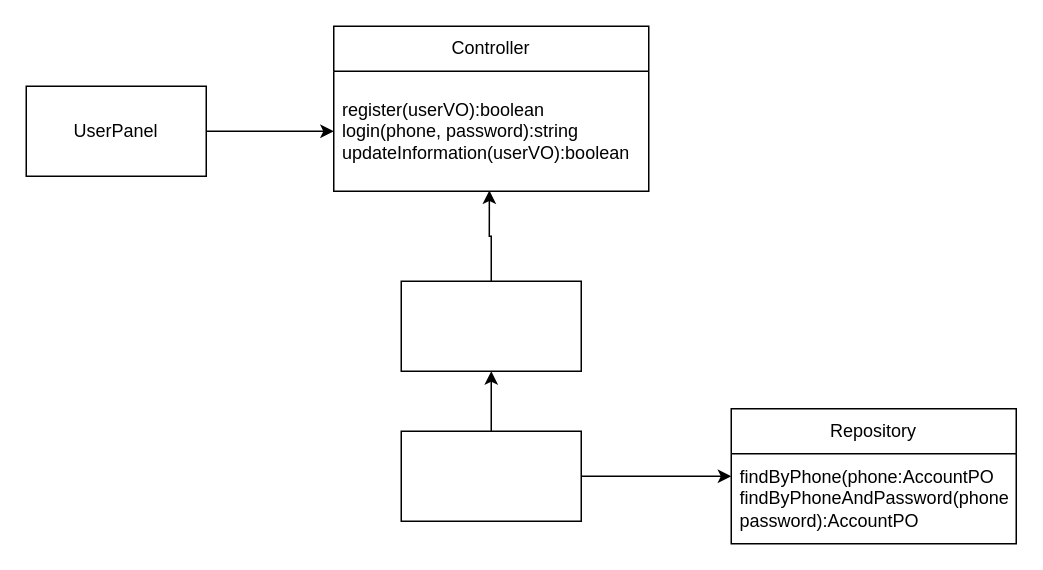
The diagram is 1043 pixels wide and 570 high, and some of its shapes have lost their labels. The centre of each missing label's shape, as x and y in pixels:
"AccountService" goes at point (490, 325).
"AccountSeviceImpl" goes at point (490, 475).
